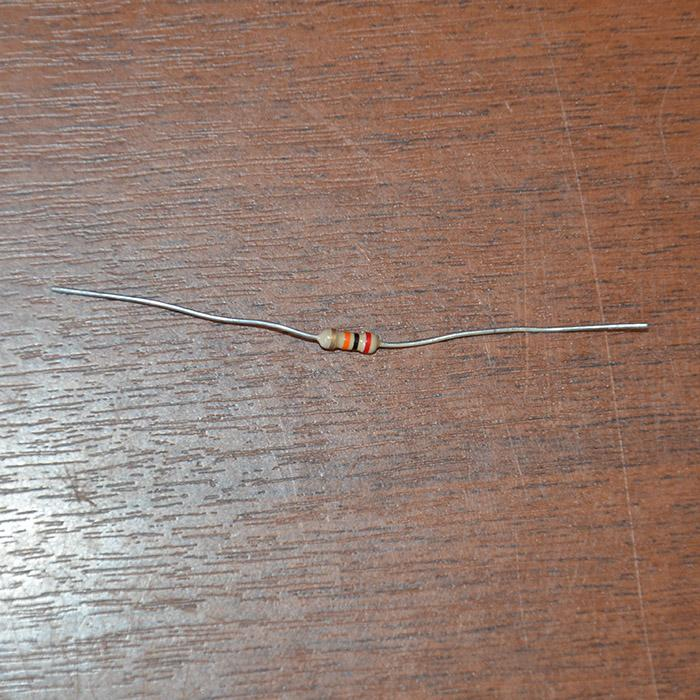resistor: (321, 327, 379, 354)
